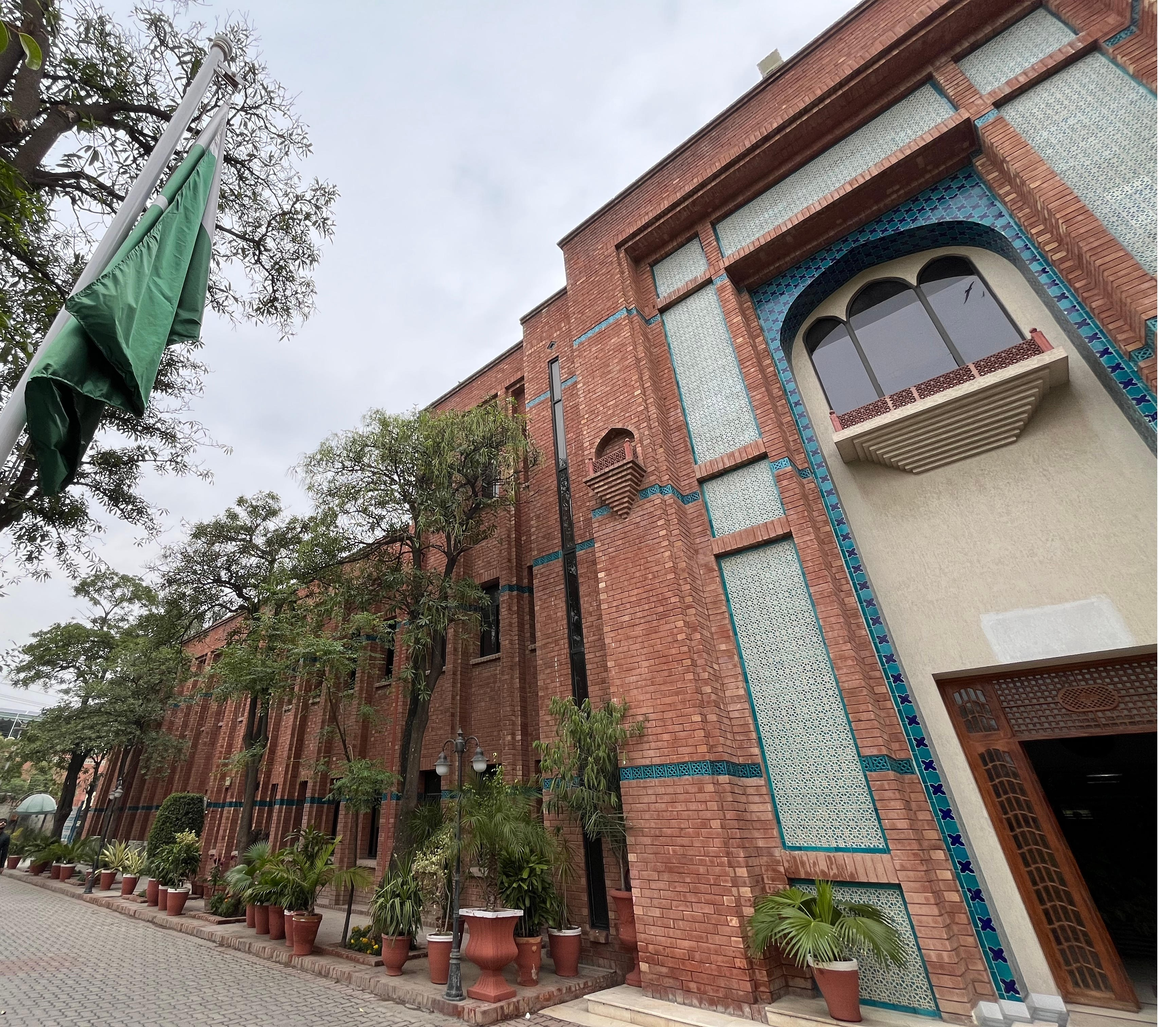Block A: (111, 72, 1159, 1027)
